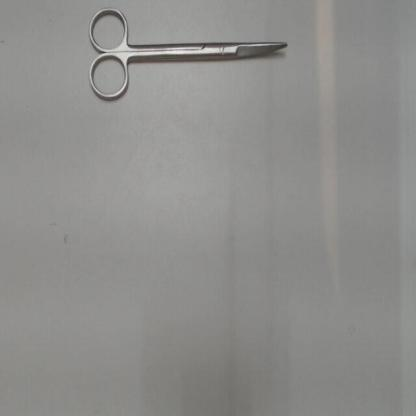Curved Mayo Scissors: (84, 6, 293, 109)
